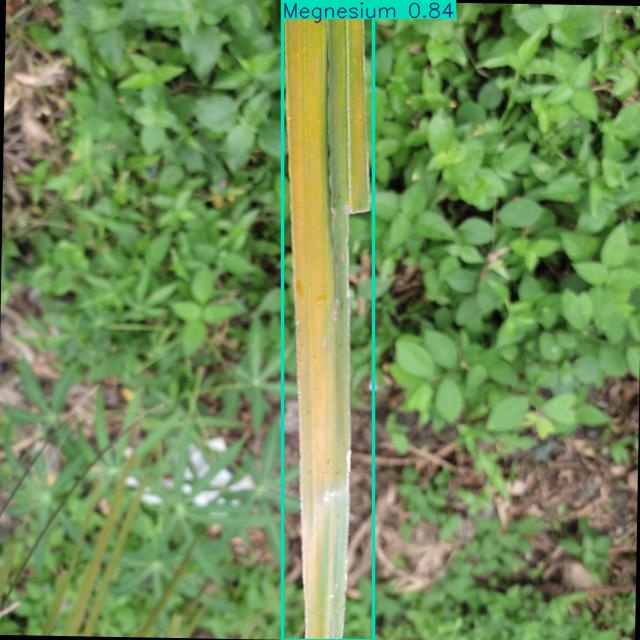Megnesium: (282, 0, 374, 640)
